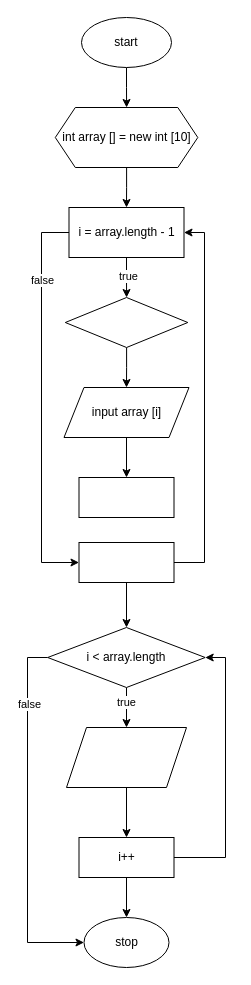
Some shapes in this 251 by 985 pixel diagram are drawn without their labels. Here are the shapes that lost their labels. From the top down, the centre of each, then its label:
At [126,322]: "i <= 0".
At [126,497]: "i--".
At [126,562]: "i = 0".
At [126,757]: "print i, array [i]".
